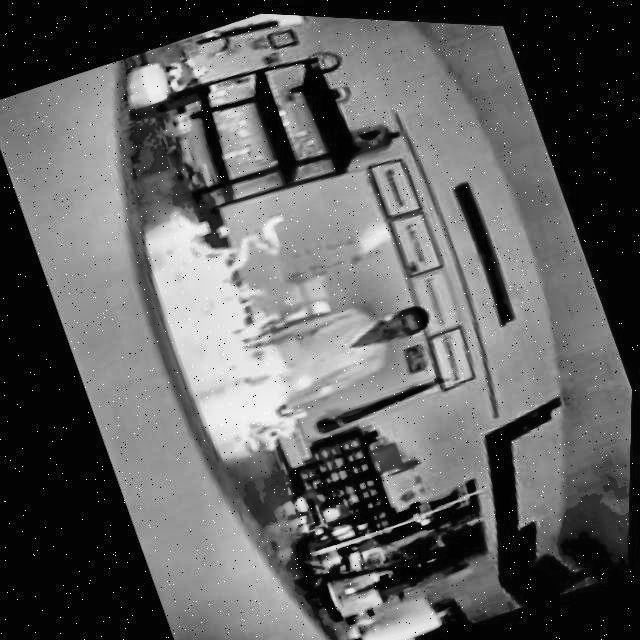Fire: (159, 169, 368, 462)
